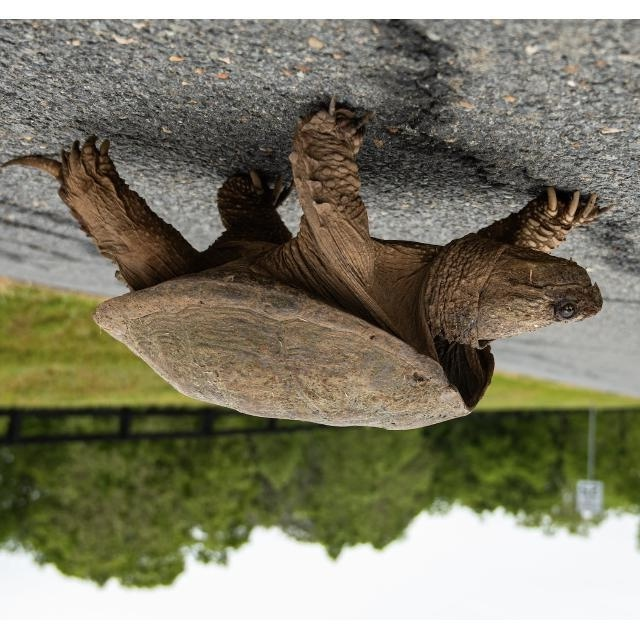turtle: (1, 99, 603, 432)
